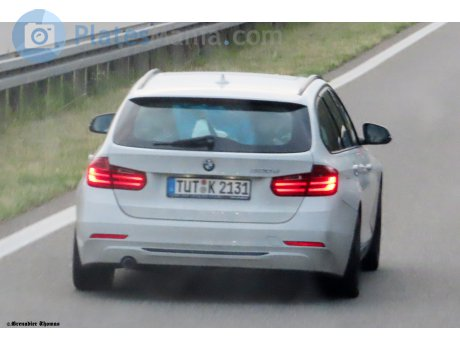License Plates: (171, 174, 248, 198)
